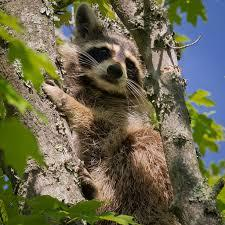raccoon: (26, 0, 213, 225)
